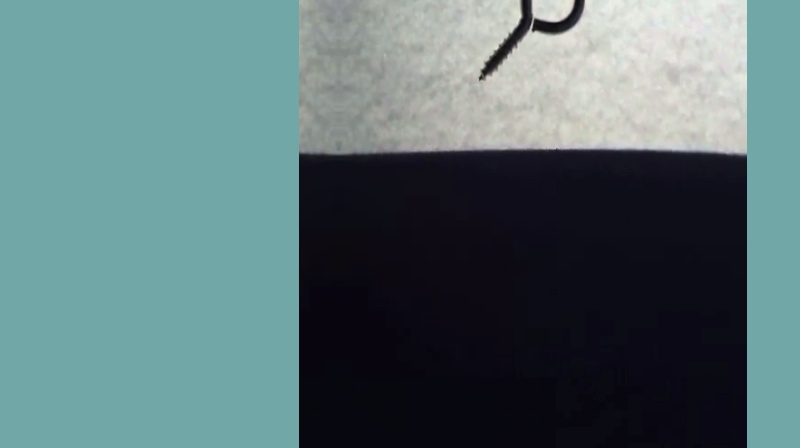O001: (469, 0, 588, 88)
